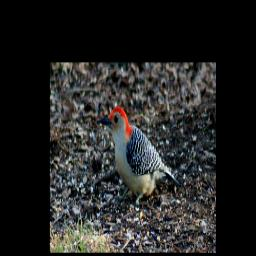Woodpecker: (98, 107, 178, 214)
